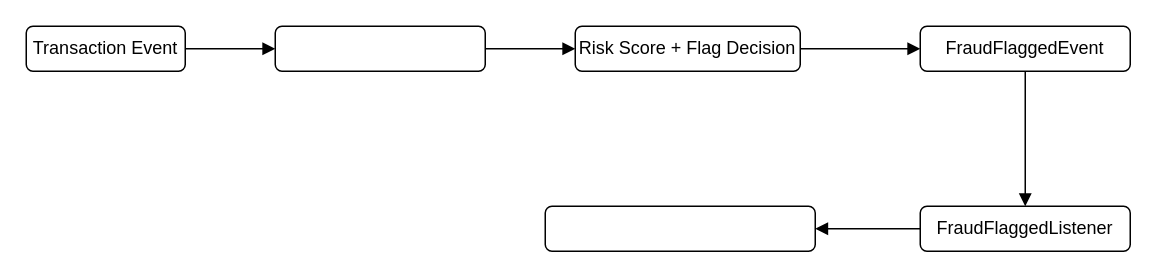
Image size: 1157x278. Some labels were removed from this diagram. Here are the shapes that lost their labels. From the top down, the centre of each, then its label:
At pixel 379 48: "Fraud Rules Evaluation".
At pixel 679 228: "MonitoringClient → Webhook".
